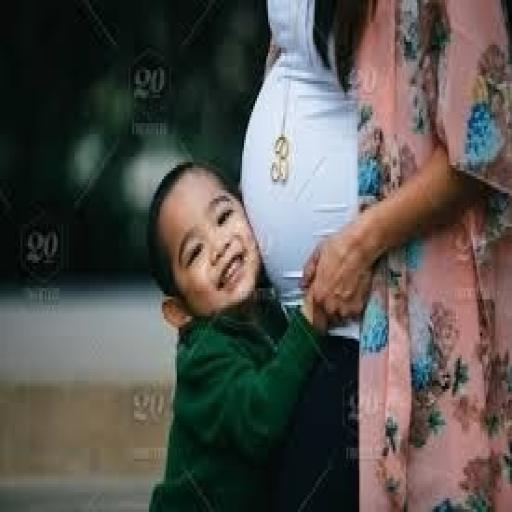hugging: (143, 0, 510, 509), (144, 157, 360, 509)
